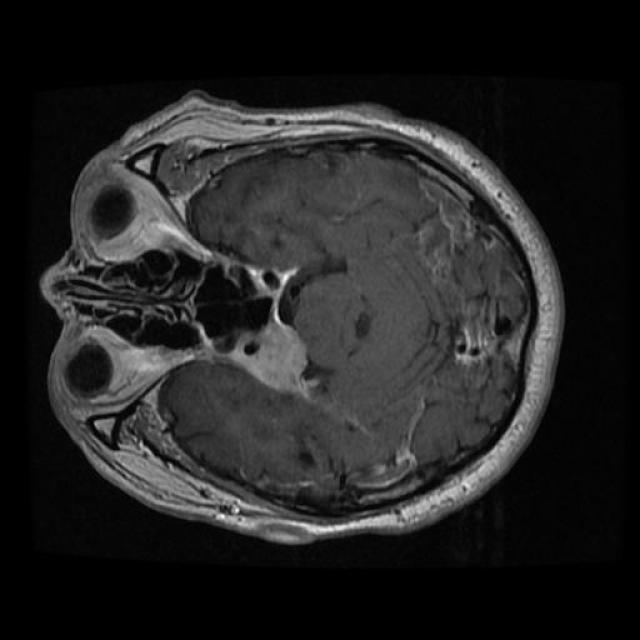Meningioma: (228, 303, 306, 391)
